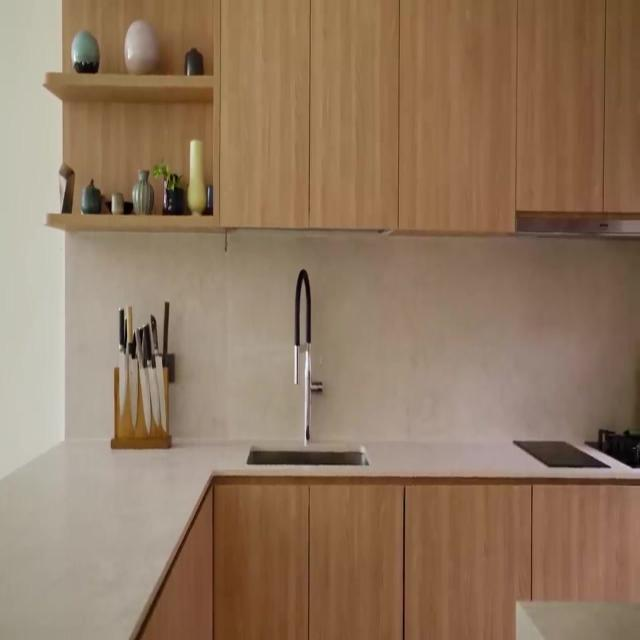obstacle: (42, 0, 222, 234), (516, 0, 640, 232)
